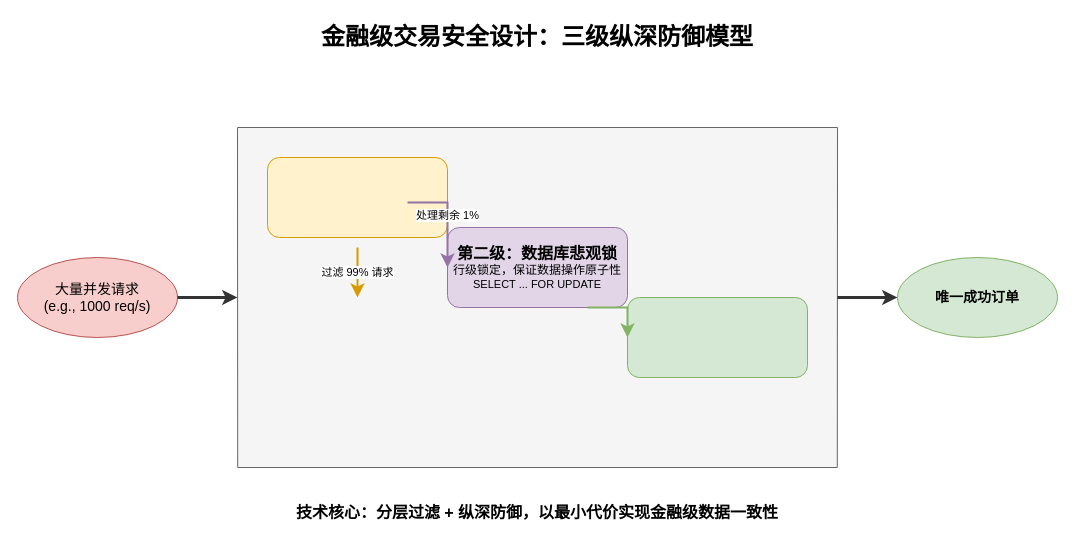
Some shapes in this 1075 by 544 pixel diagram are drawn without their labels. Here are the shapes that lost their labels. From the top down, the centre of each, then its label:
At point (357, 197): "第一级：应用层锁 内存级过滤，成本最低，效率最高 BookingConflictService".
At point (717, 337): "第三级：Serializable 事务 最高隔离级别，杜绝幻读 数据最终一致性".
